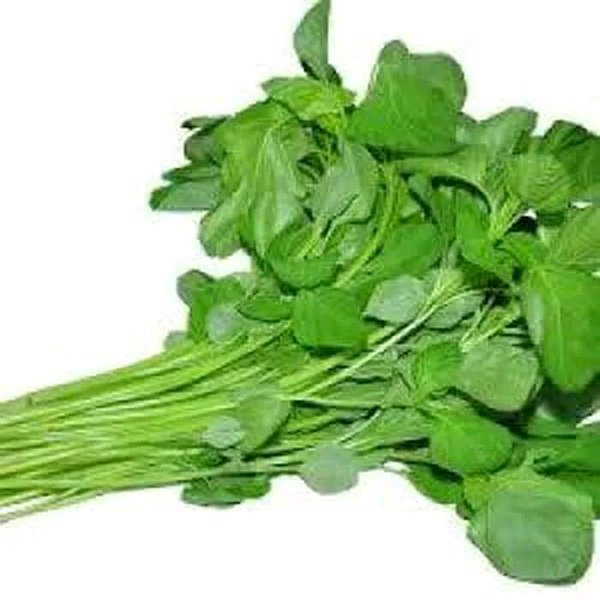Bayam: (106, 111, 484, 538)
